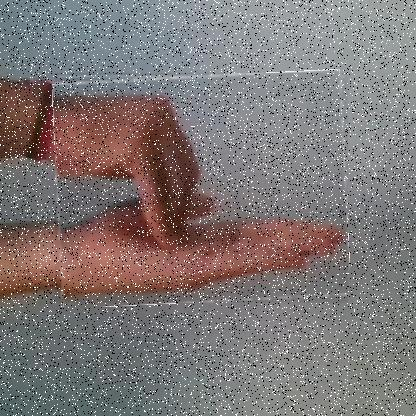Z: (55, 73, 349, 304)
